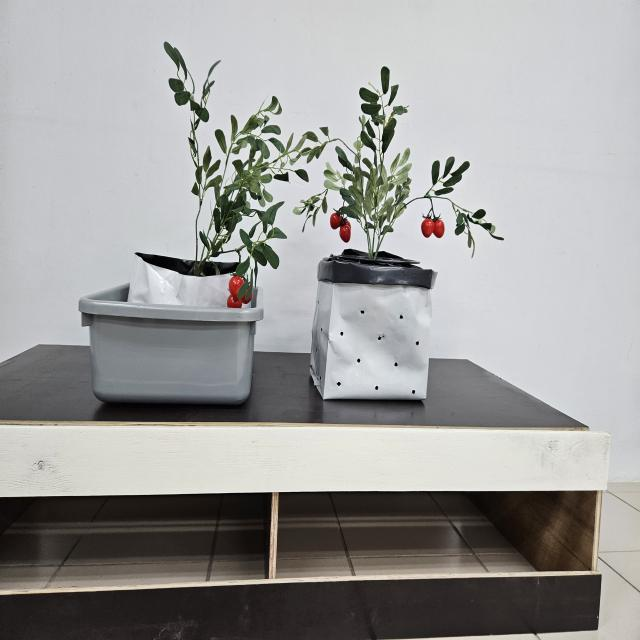Soilbag: (309, 252, 435, 406), (116, 253, 253, 371)
Tomato: (421, 190, 445, 239)
plant: (163, 42, 335, 309), (291, 68, 503, 259)
